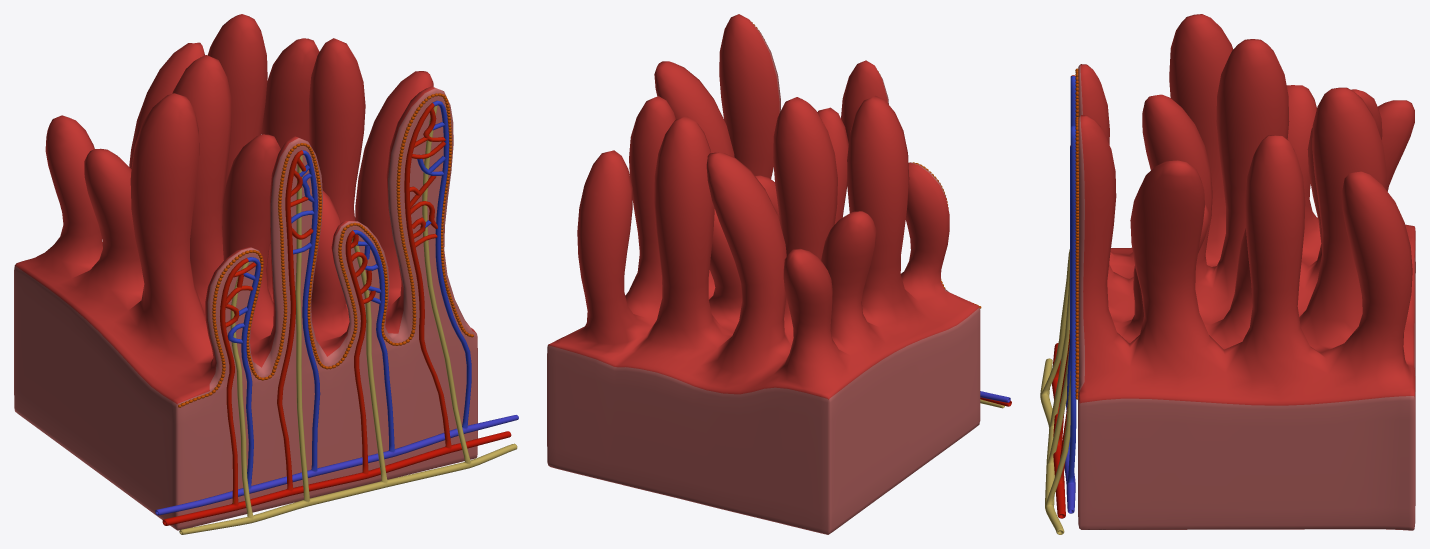
File: slide24.glb
3 views of the same model, side by side, from view 1: azimuth 30°, elevation 25°; view 2: azimuth 150°, elevation 25°; view 3: azimuth 270°, elevation 25° (orthographic). The views are drawn at different scales.
Parts seen in each view (by area): view 1: polySurface31, polySurface1, polySurface10, polySurface51, polySurface44, polySurface90, polySurface86, polySurface3, polySurface4, polySurface74; view 2: polySurface31, polySurface1; view 3: polySurface31, polySurface1, polySurface10, polySurface44, polySurface90, polySurface3.
Boxes of the visible parts, x1,y1,x2,y2 form: polySurface31: (15,14,476,404); polySurface1: (14,88,477,530); polySurface10: (179,105,517,534); polySurface51: (220,102,451,504); polySurface44: (241,100,471,488); polySurface90: (178,93,473,407); polySurface86: (225,108,445,327); polySurface3: (162,431,511,525); polySurface4: (155,415,518,515); polySurface74: (227,122,445,343); polySurface31: (548,14,979,399); polySurface1: (547,19,980,534); polySurface31: (1078,14,1415,405); polySurface1: (1078,64,1415,530); polySurface10: (1040,249,1070,534); polySurface44: (1066,76,1076,482); polySurface90: (1075,68,1078,399); polySurface3: (1052,343,1065,518).
Size of the model in its own units: 5.2 by 5.29 by 4.53.
